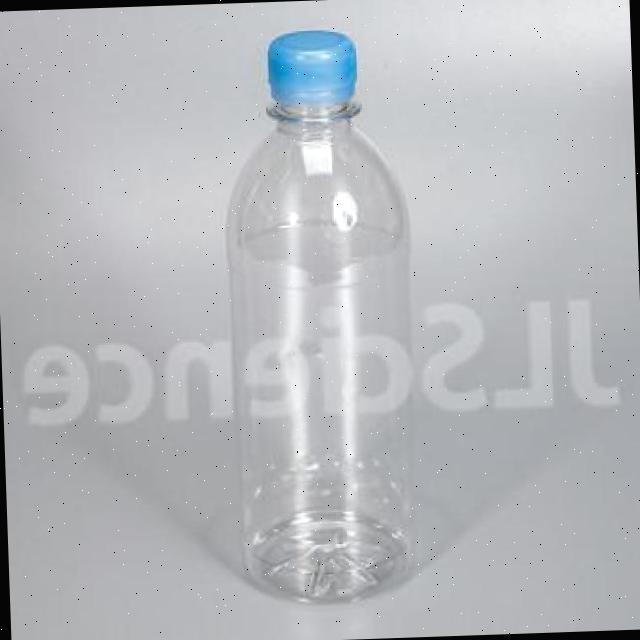bottle: (200, 0, 481, 605)
cap: (262, 27, 363, 114)
